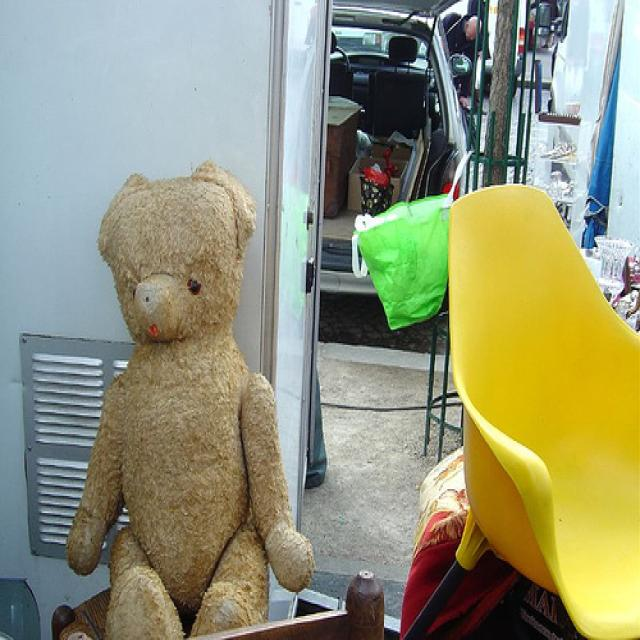Vehicle: (317, 2, 471, 295)
